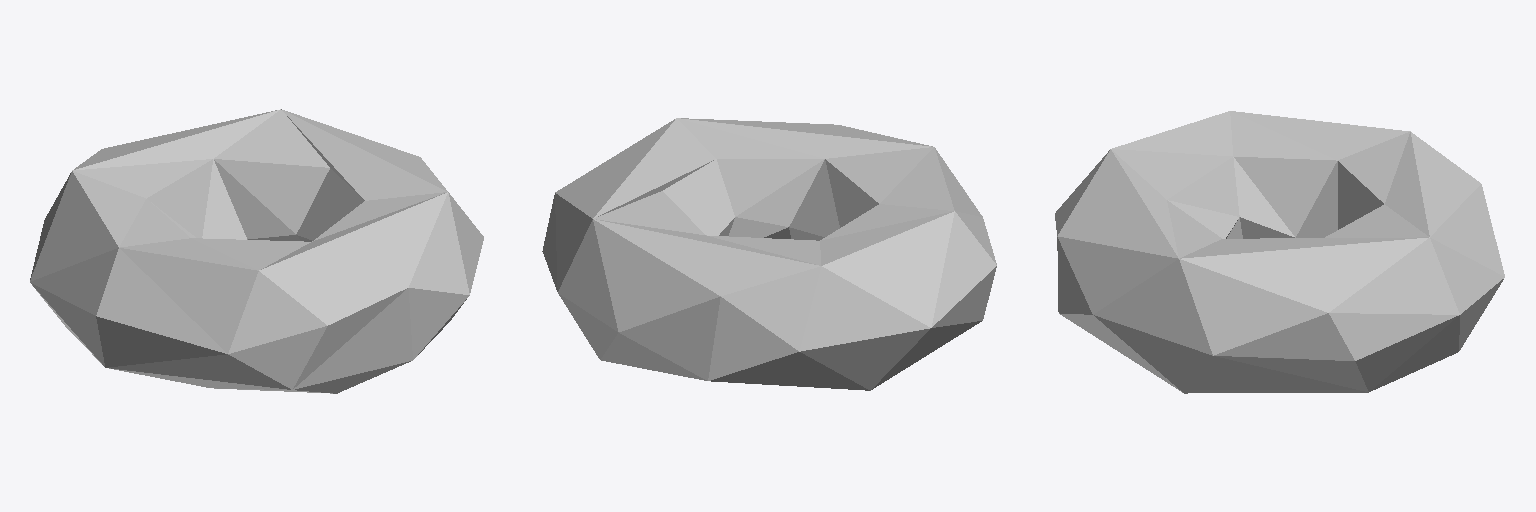
File: nicedonut.obj
3 views of the same model, side by side, from view 1: azimuth 30°, elevation 25°; view 2: azimuth 150°, elevation 25°; view 3: azimuth 270°, elevation 25° (orthographic).
Parts seen in each view (by area): view 1: donut_model_Mesh; view 2: donut_model_Mesh; view 3: donut_model_Mesh.
Part boxes in pixels (x1,y1,x2,y2): donut_model_Mesh: (30, 109, 483, 393); donut_model_Mesh: (542, 118, 996, 390); donut_model_Mesh: (1055, 111, 1504, 393).
Size of the model in its own units: 1.99 by 0.6578 by 1.99.